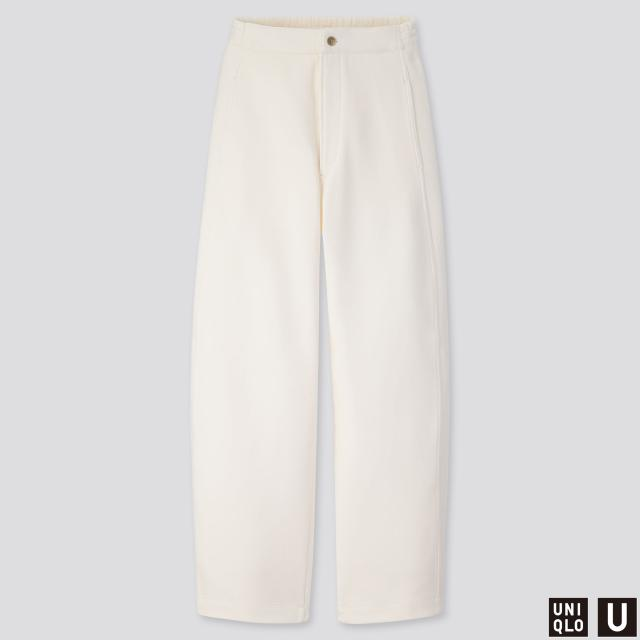long-pants: (189, 16, 456, 628)
